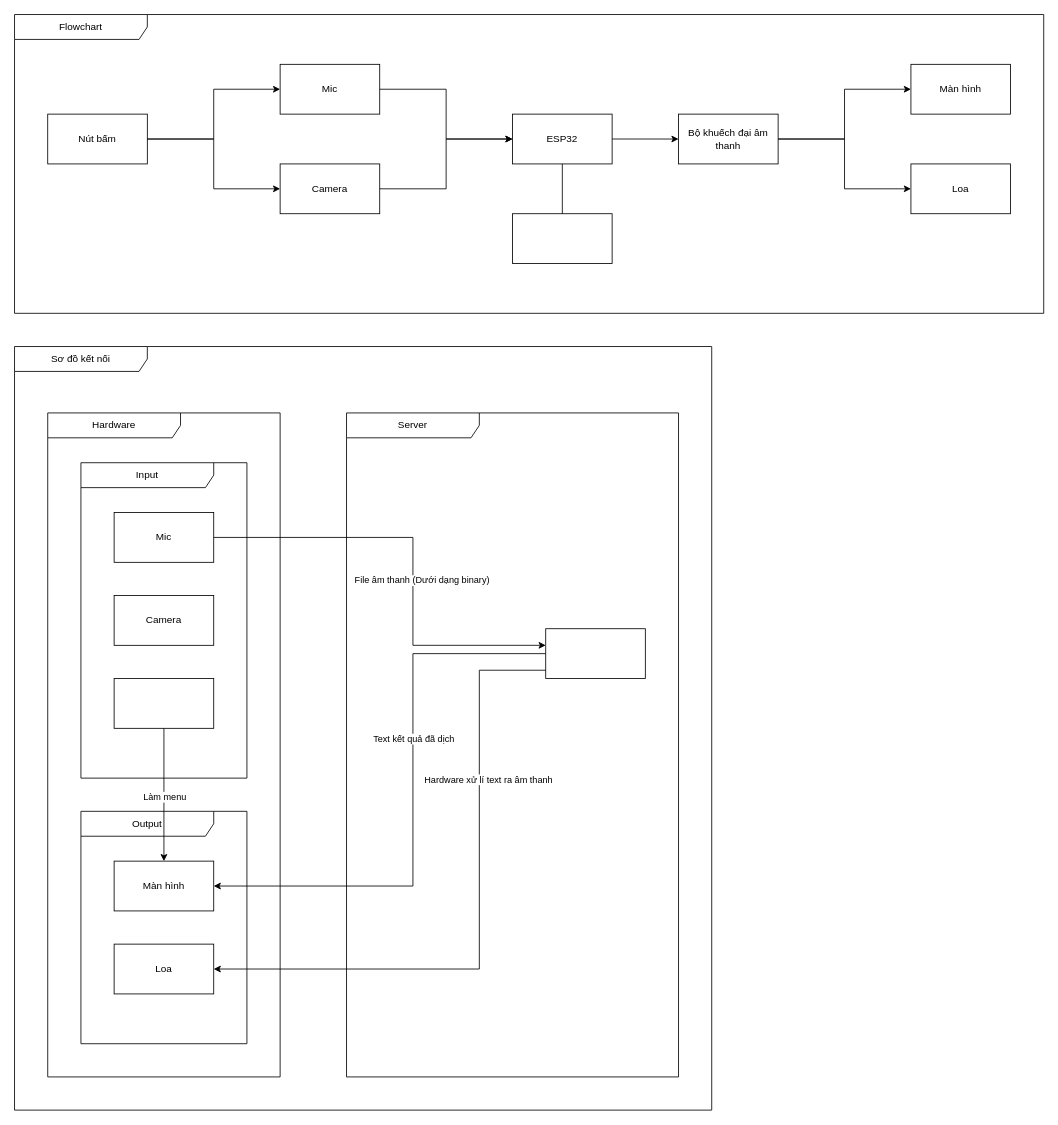
Some shapes in this 1058 by 1125 pixel diagram are drawn without their labels. The shapes that lost their labels are listed below. From the top down, each one's centre as x and y in pixels, then its label:
(x=562, y=238): Pin Lithium
(x=595, y=653): /translate
(x=163, y=703): Nút (Chuyển chế độ)
